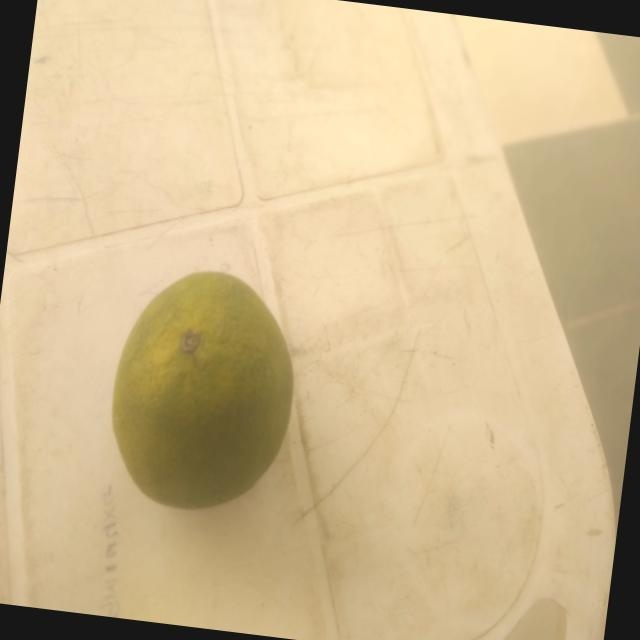agrume: (68, 222, 341, 554)
